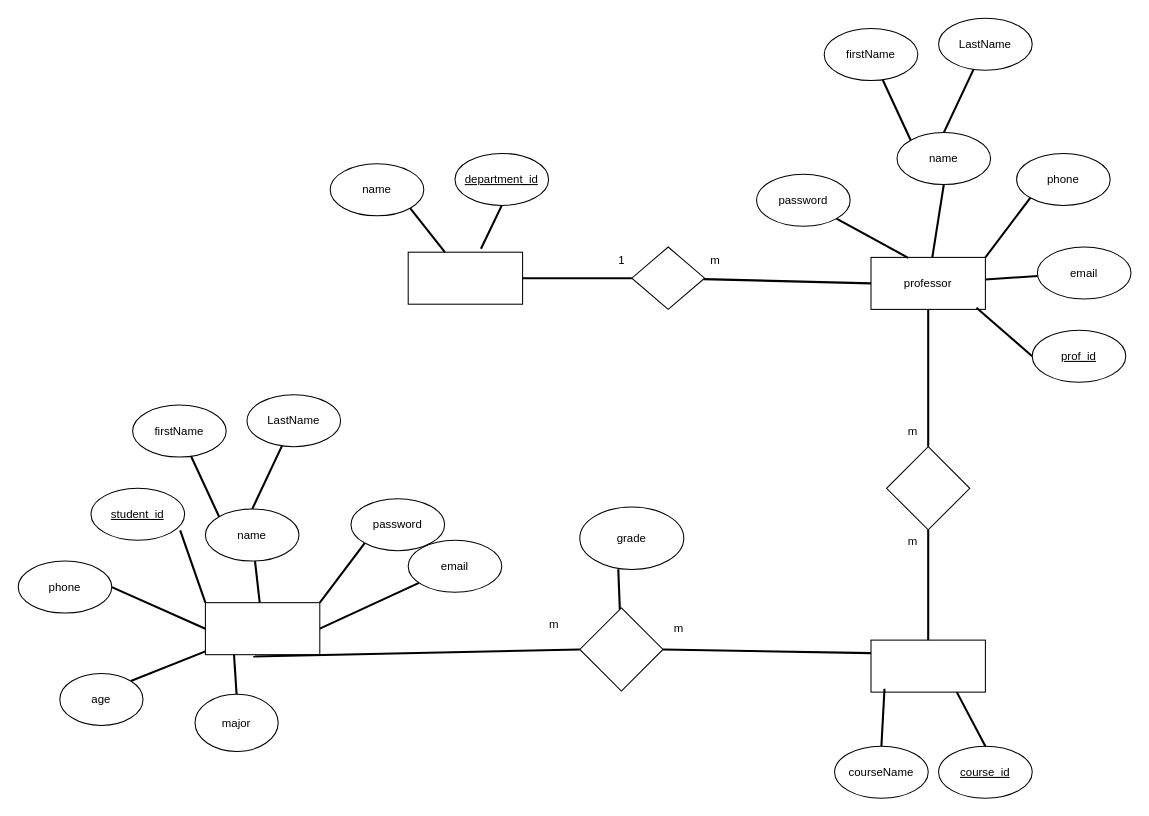
The diagram is 1149 pixels wide and 816 high, and some of its shapes have lost their labels. Here are the shapes that lost their labels. From the top down, the centre of each, then its label:
(x=465, y=277): Department
(x=668, y=277): works
(x=928, y=488): teaches
(x=262, y=628): student
(x=621, y=649): takes
(x=927, y=665): course
